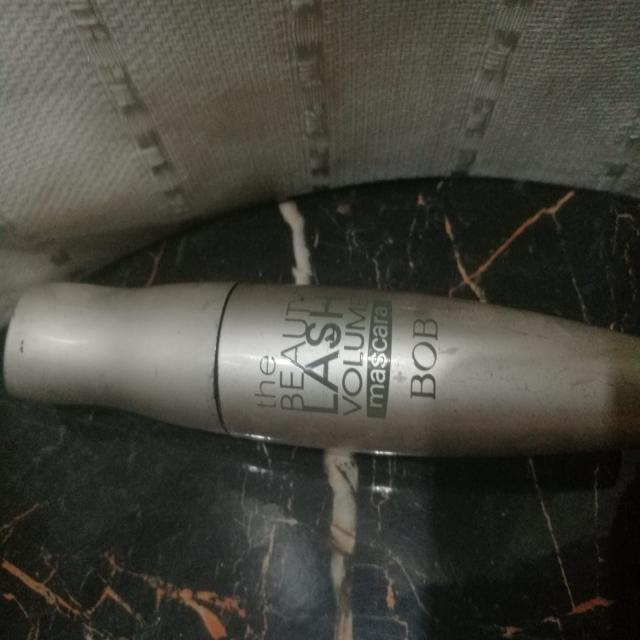mascara: (4, 221, 640, 489)
